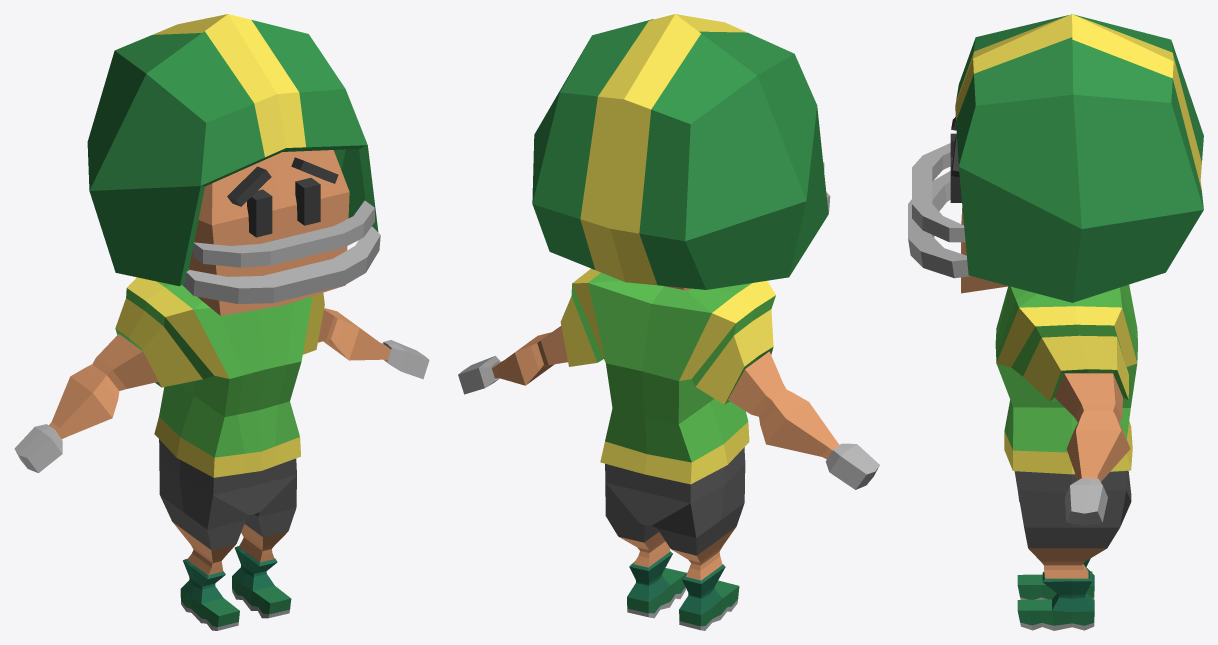
The model's file is GMDS_Football_Model_ST002122721.fbx.
3 views of the same model, side by side, from view 1: azimuth 30°, elevation 25°; view 2: azimuth 150°, elevation 25°; view 3: azimuth 270°, elevation 25° (orthographic).
Parts seen in each view (by area): view 1: Football Phil; view 2: Football Phil; view 3: Football Phil.
Boxes of the visible parts, <box> form: Football Phil: <box>14,14,429,630</box>; Football Phil: <box>458,14,879,630</box>; Football Phil: <box>908,14,1203,630</box>.
Size of the model in its own units: 162 by 226 by 101.
